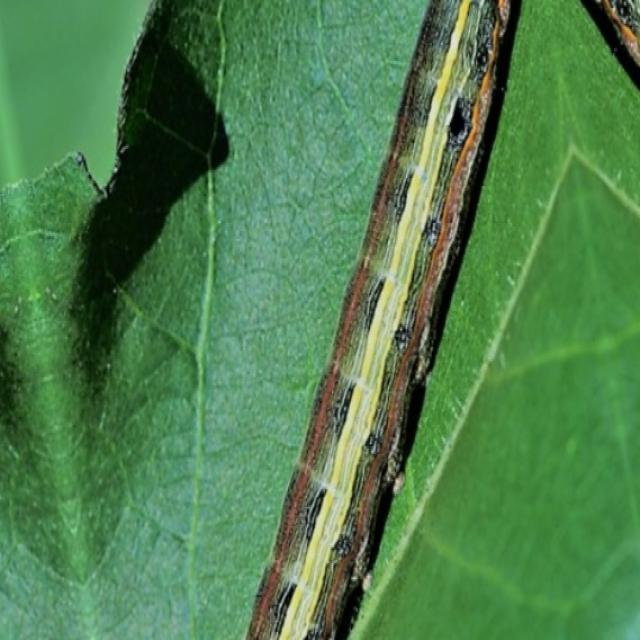armyworm: (249, 4, 526, 640)
